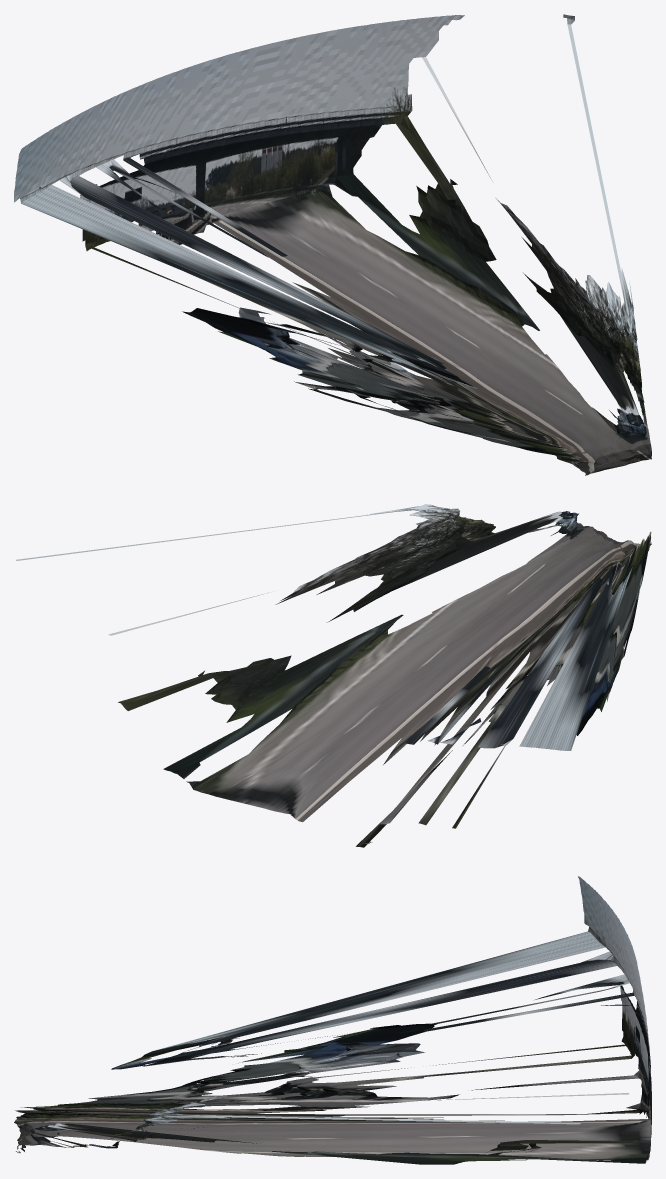
The picture shows the model from 3 angles, top to bottom: view 1: azimuth 30°, elevation 25°; view 2: azimuth 150°, elevation 25°; view 3: azimuth 270°, elevation 25°; orthographic projection. The views are drawn at different scales.
Visible parts, largest first — view 1: defaultobject; view 2: defaultobject; view 3: defaultobject.
Part boxes in pixels (x1=…): defaultobject: x1=14, y1=14, x2=651, y2=475; defaultobject: x1=16, y1=504, x2=651, y2=847; defaultobject: x1=14, y1=876, x2=651, y2=1164.
Bounding box in the file's own units: 39.95 × 12.87 × 44.5.
1 material, 1 textured.
